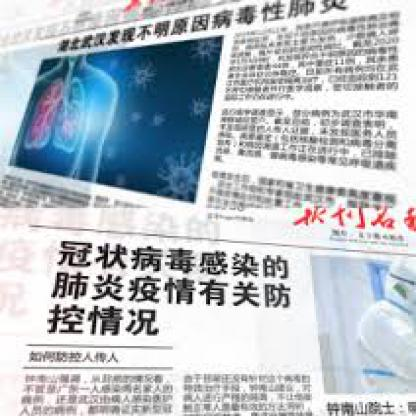paper: (0, 0, 415, 212), (0, 206, 414, 414)
